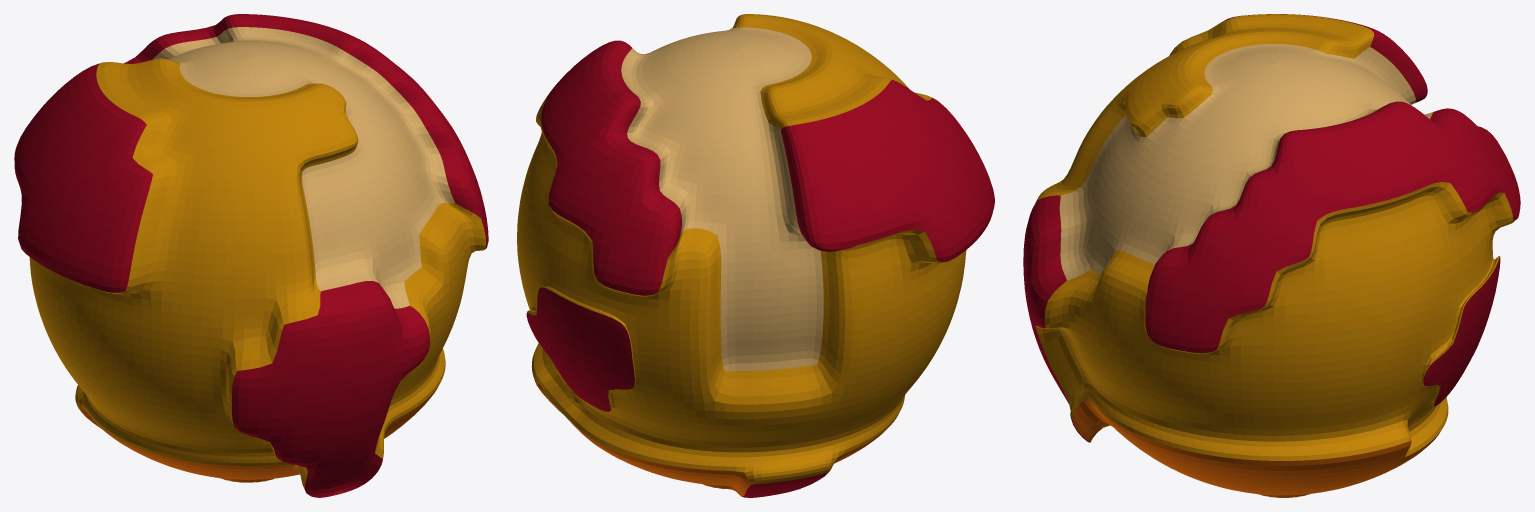
Rendered from planetaironman.fbx.
The picture shows the model from 3 angles, left to right: view 1: azimuth 30°, elevation 25°; view 2: azimuth 150°, elevation 25°; view 3: azimuth 270°, elevation 25°; orthographic projection. The views are drawn at different scales.
Parts seen in each view (by area): view 1: Sphere; view 2: Sphere; view 3: Sphere.
Boxes of the visible parts, x1,y1,x2,y2 form: Sphere: [14, 14, 488, 497]; Sphere: [517, 14, 994, 497]; Sphere: [1023, 14, 1520, 497].
Bounding box in the file's own units: 217 × 207 × 222.
